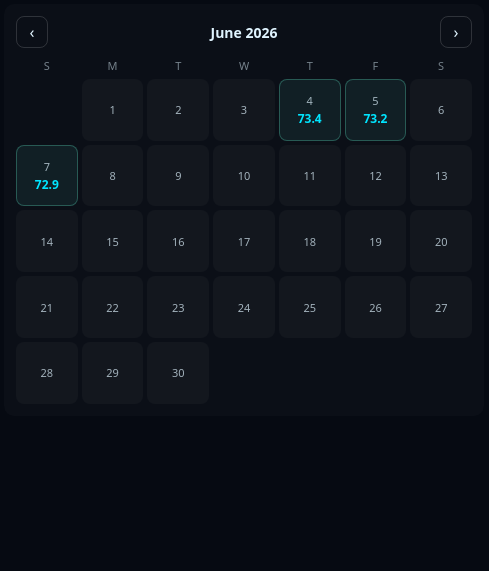
Test: BodyWeightCalendar › opens an editor when a logged day is tapped, pre-filled with that weight
The image size is (489, 571).
Click the text "73.4" at {"x": 310, "y": 118}, box [298,110,322,127]
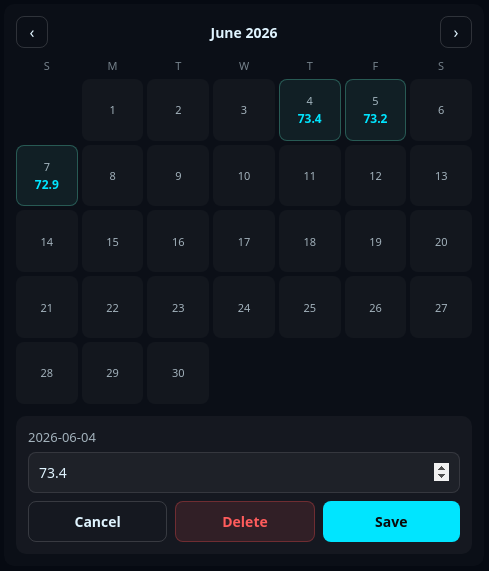
Check: the number field showing "73.4" is shown, box [28,452,460,493]
